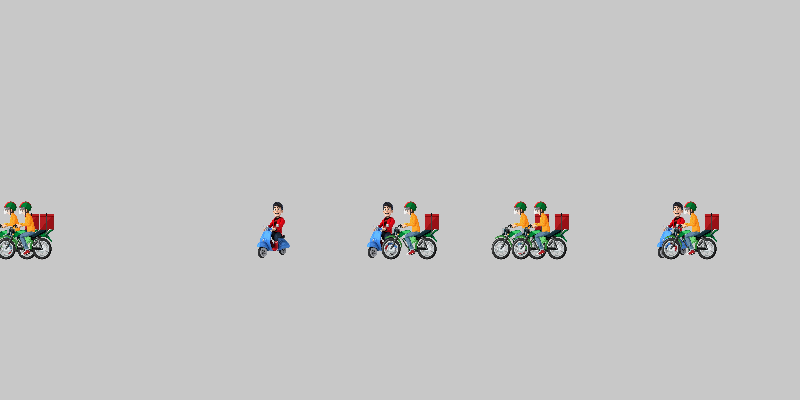helmet: (380, 200, 440, 260), (490, 200, 550, 260), (510, 200, 570, 260), (660, 200, 720, 260), (0, 200, 55, 260), (0, 200, 40, 260)
no_helmet: (245, 200, 305, 260), (355, 200, 415, 260), (645, 200, 705, 260)
